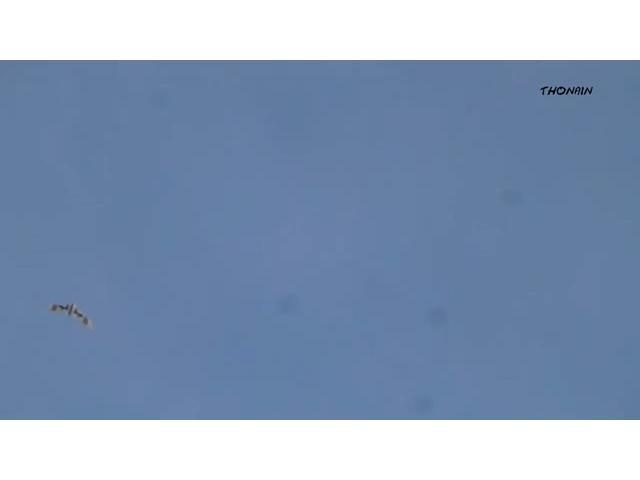Anti-Drone: (52, 304, 94, 328)
